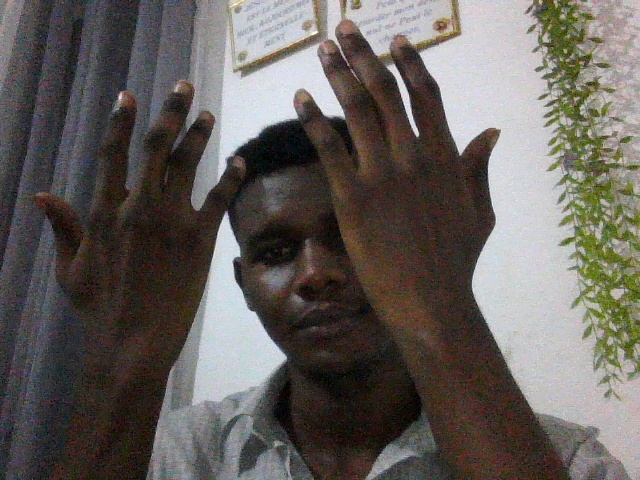hand: (289, 24, 507, 355)
